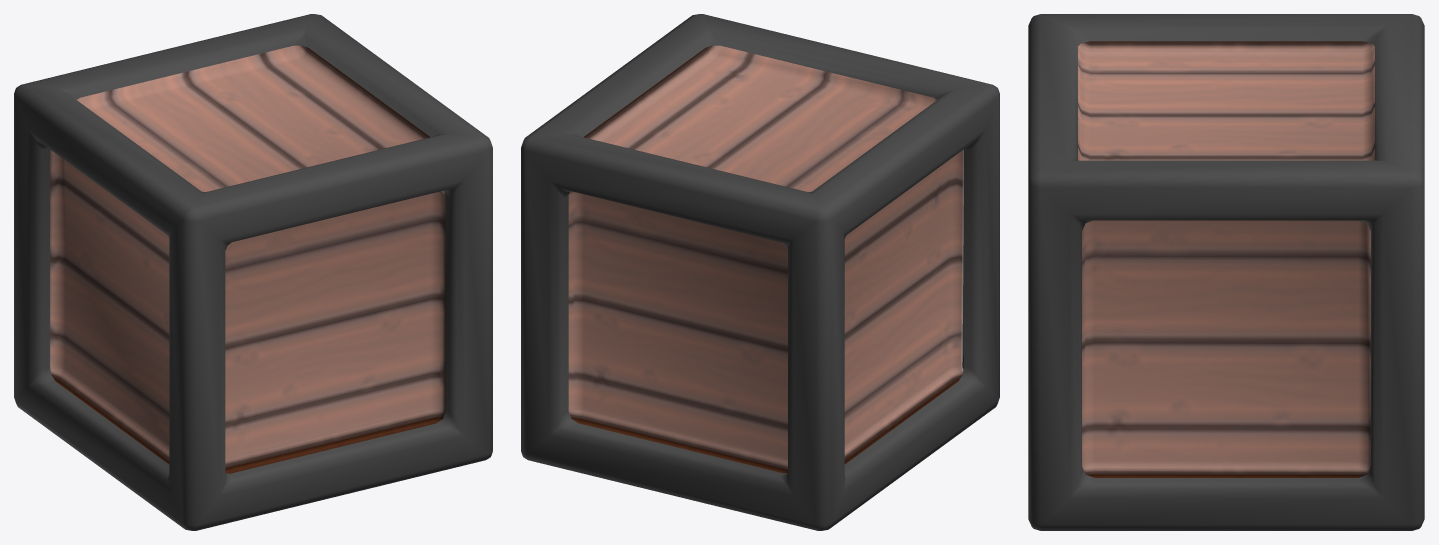
Rendered from chest.fbx.
The picture shows the model from 3 angles, left to right: view 1: azimuth 30°, elevation 25°; view 2: azimuth 150°, elevation 25°; view 3: azimuth 270°, elevation 25°; orthographic projection. The views are drawn at different scales.
Visible parts, largest first — view 1: chest; view 2: chest; view 3: chest.
Part boxes in pixels (x1=…): chest: x1=14, y1=14, x2=492, y2=530; chest: x1=521, y1=14, x2=999, y2=530; chest: x1=1028, y1=14, x2=1424, y2=530.
Size of the model in its own units: 68.3 by 68.3 by 68.3.
